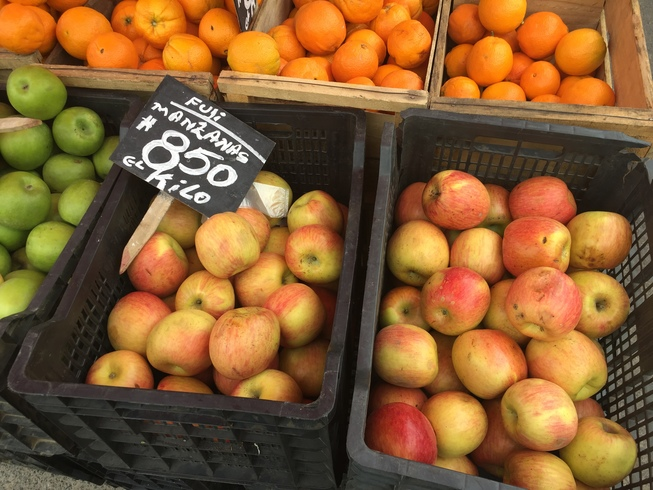precio: (106, 69, 282, 229)
